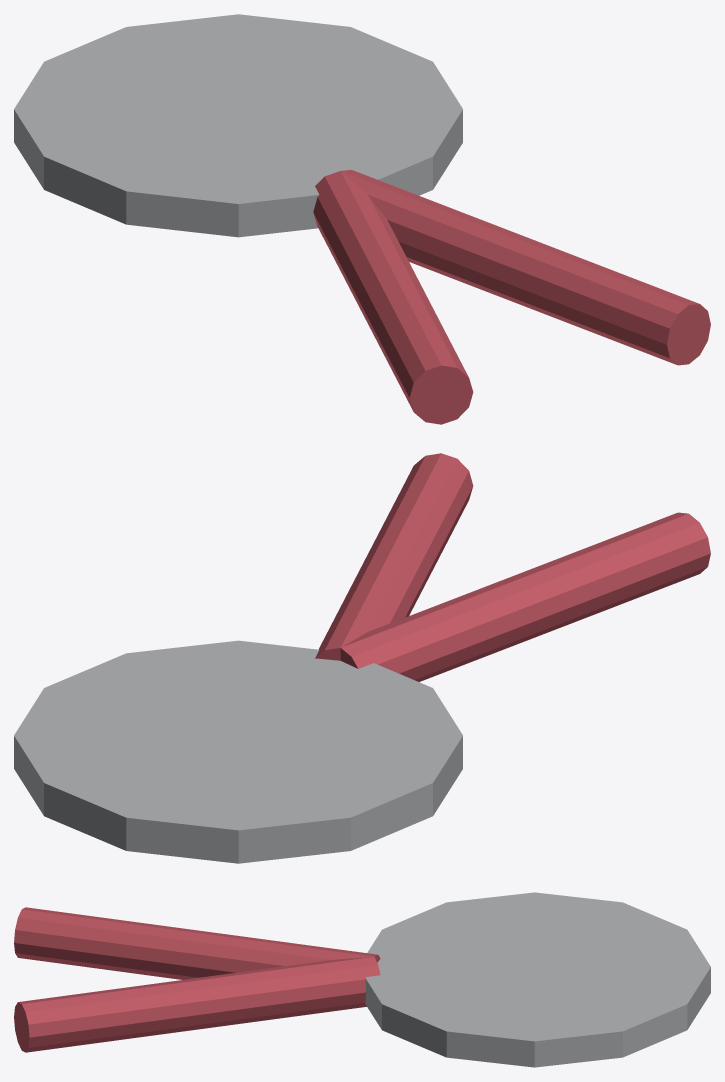
The picture shows the model from 3 angles, top to bottom: view 1: azimuth 30°, elevation 25°; view 2: azimuth 150°, elevation 25°; view 3: azimuth 270°, elevation 25°; orthographic projection. The views are drawn at different scales.
Parts seen in each view (by area): view 1: geometry_0; view 2: geometry_0; view 3: geometry_0.
Part boxes in pixels (<box>): geometry_0: <box>14,14,710,424</box>; geometry_0: <box>14,453,710,863</box>; geometry_0: <box>14,892,710,1067</box>.
Size of the model in its own units: 0.11 by 0.02 by 0.2174.
